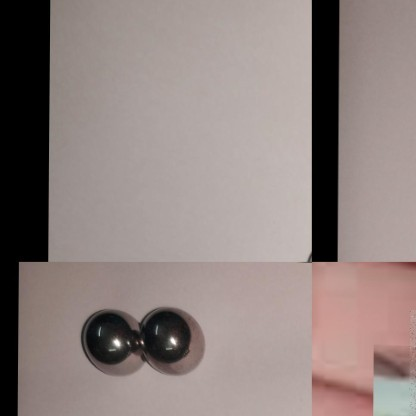ironball: (77, 305, 146, 376), (141, 301, 204, 378)
